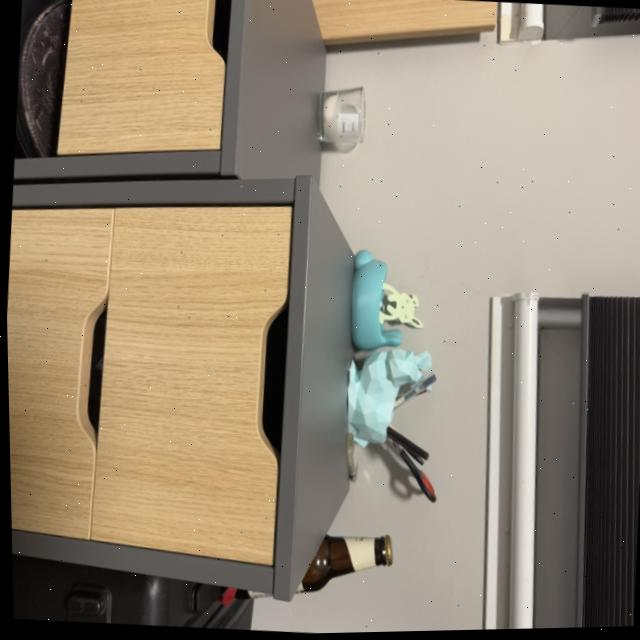beer: (211, 519, 400, 616)
